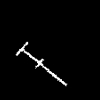double_crochet: (16, 42, 65, 84)
